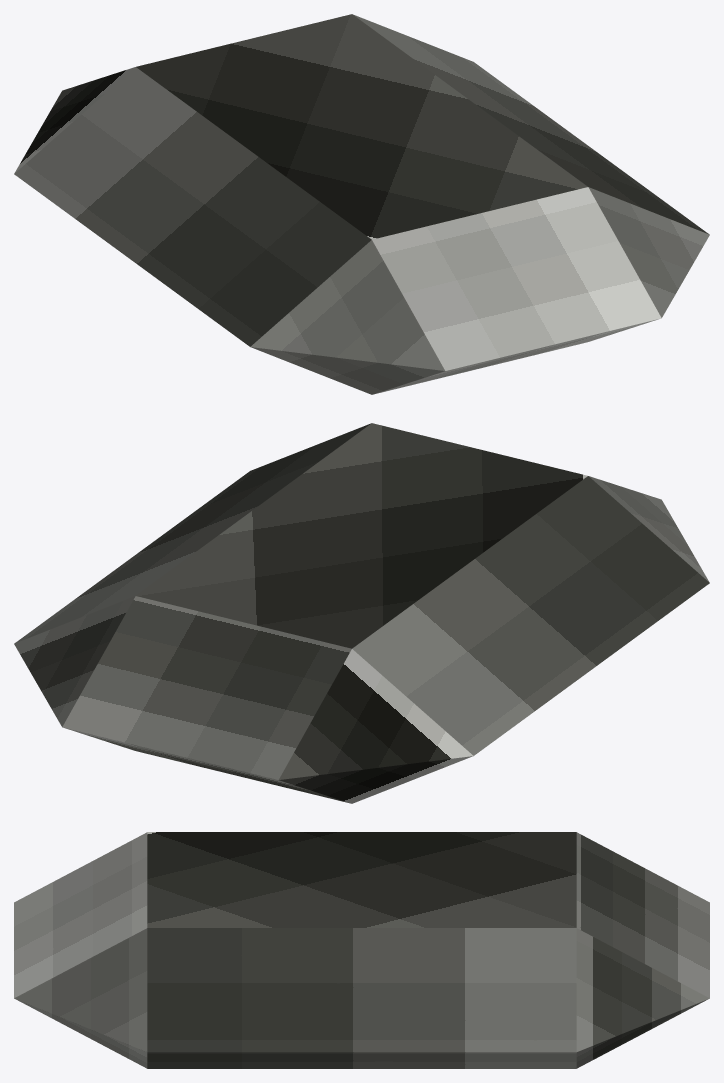
The model's file is Jewel03.glb.
3 views of the same model, one above another, from view 1: azimuth 30°, elevation 25°; view 2: azimuth 150°, elevation 25°; view 3: azimuth 270°, elevation 25° (orthographic). The views are drawn at different scales.
Visible parts, largest first — view 1: model_Jewel03; view 2: model_Jewel03; view 3: model_Jewel03.
Boxes of the visible parts, <box> form: model_Jewel03: <box>14,14,709,394</box>; model_Jewel03: <box>14,423,709,803</box>; model_Jewel03: <box>14,832,709,1068</box>.
Bounding box in the file's own units: 0.185 × 0.0597 × 0.2671.
1 material, 1 textured.
